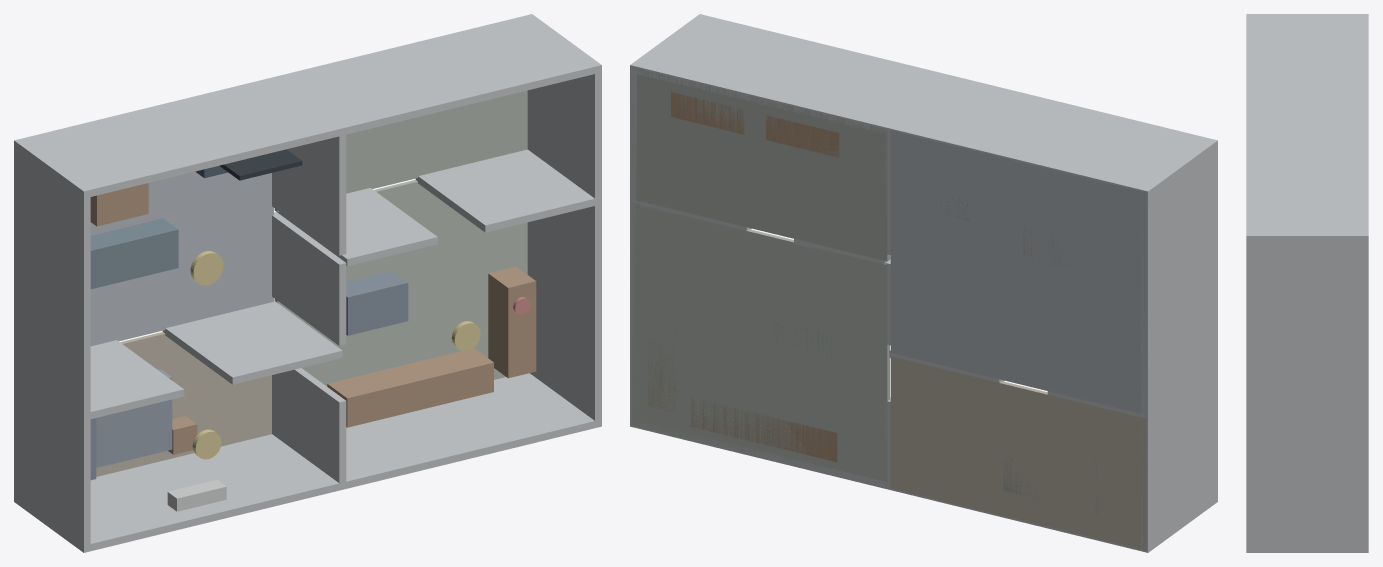
The model's file is demo-house.glb.
3 renders of one model, left to right at view 1: azimuth 30°, elevation 25°; view 2: azimuth 150°, elevation 25°; view 3: azimuth 270°, elevation 25°, orthographic. The views are drawn at different scales.
Visible parts, largest first — view 1: WALL_North, WALL_South, WALL_West, WALL_East, ROOM_LivingRoom_Floor, ROOM_Kitchen_Floor, ROOM_Balcony_Floor, WALL_Right_H_B, WALL_Left_H_B, ROOM_Bedroom_Floor, FURN_Counter_Kitchen_A, WALL_Center_Mid (+13 smaller); view 2: ROOM_LivingRoom_Floor, ROOM_Kitchen_Floor, WALL_North, ROOM_Bedroom_Floor, ROOM_Balcony_Floor, WALL_West, FURN_Counter_Kitchen_A, WALL_South, WALL_East, FURN_Planter_Balcony_A, FURN_Planter_Balcony_B; view 3: WALL_East, WALL_North, WALL_South, WALL_Right_H_B.
Boxes of the visible parts, x1,y1,x2,y2 form: WALL_North: [14, 14, 601, 198]; WALL_South: [14, 373, 601, 552]; WALL_West: [14, 139, 90, 552]; WALL_East: [526, 14, 601, 425]; ROOM_LivingRoom_Floor: [90, 171, 273, 346]; ROOM_Kitchen_Floor: [274, 180, 527, 386]; ROOM_Balcony_Floor: [274, 90, 527, 212]; WALL_Right_H_B: [415, 149, 601, 232]; WALL_Left_H_B: [162, 300, 342, 384]; ROOM_Bedroom_Floor: [96, 332, 271, 476]; FURN_Counter_Kitchen_A: [327, 348, 493, 427]; WALL_Center_Mid: [272, 212, 346, 345]; ROOM_LivingRoom_Floor: [890, 130, 1146, 414]; ROOM_Kitchen_Floor: [631, 203, 889, 481]; WALL_North: [630, 14, 1217, 198]; ROOM_Bedroom_Floor: [890, 356, 1146, 550]; ROOM_Balcony_Floor: [631, 69, 889, 261]; WALL_West: [1141, 139, 1217, 552]; FURN_Counter_Kitchen_A: [690, 397, 837, 462]; WALL_South: [630, 419, 1217, 552]; WALL_East: [630, 14, 705, 426]; FURN_Planter_Balcony_A: [766, 115, 839, 157]; FURN_Planter_Balcony_B: [671, 92, 744, 134]; WALL_East: [1246, 233, 1368, 552]; WALL_North: [1246, 14, 1368, 242]; WALL_South: [1246, 546, 1368, 552]; WALL_Right_H_B: [1246, 351, 1368, 357].
Size of the model in its own units: 12 by 8 by 2.8.
